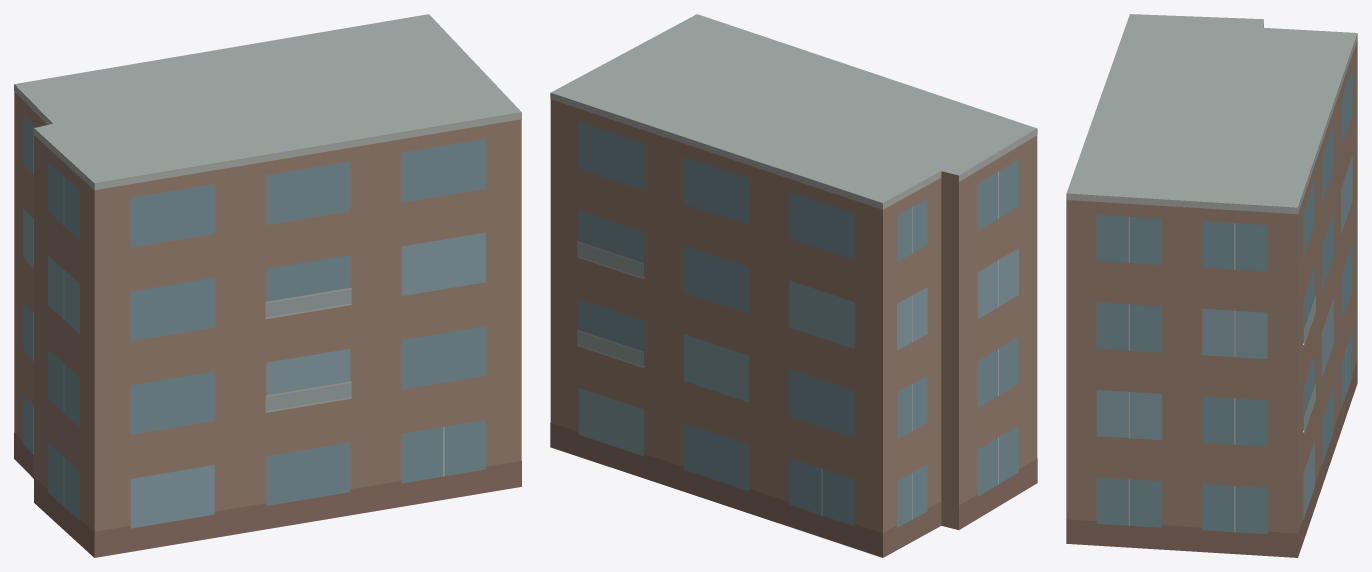
Rendered from survey-upis-32905773.glb.
3 renders of one model, left to right at view 1: azimuth 30°, elevation 25°; view 2: azimuth 150°, elevation 25°; view 3: azimuth 270°, elevation 25°, orthographic. The views are drawn at different scales.
Visible parts, largest first — view 1: survey-upis-32905773.tmp; view 2: survey-upis-32905773.tmp; view 3: survey-upis-32905773.tmp.
Part boxes in pixels (x1,y1,x2,y2): survey-upis-32905773.tmp: (14,14,521,557); survey-upis-32905773.tmp: (550,14,1037,557); survey-upis-32905773.tmp: (1066,14,1357,557).
Bounding box in the file's own units: 15.54 × 13.1 × 9.88.
